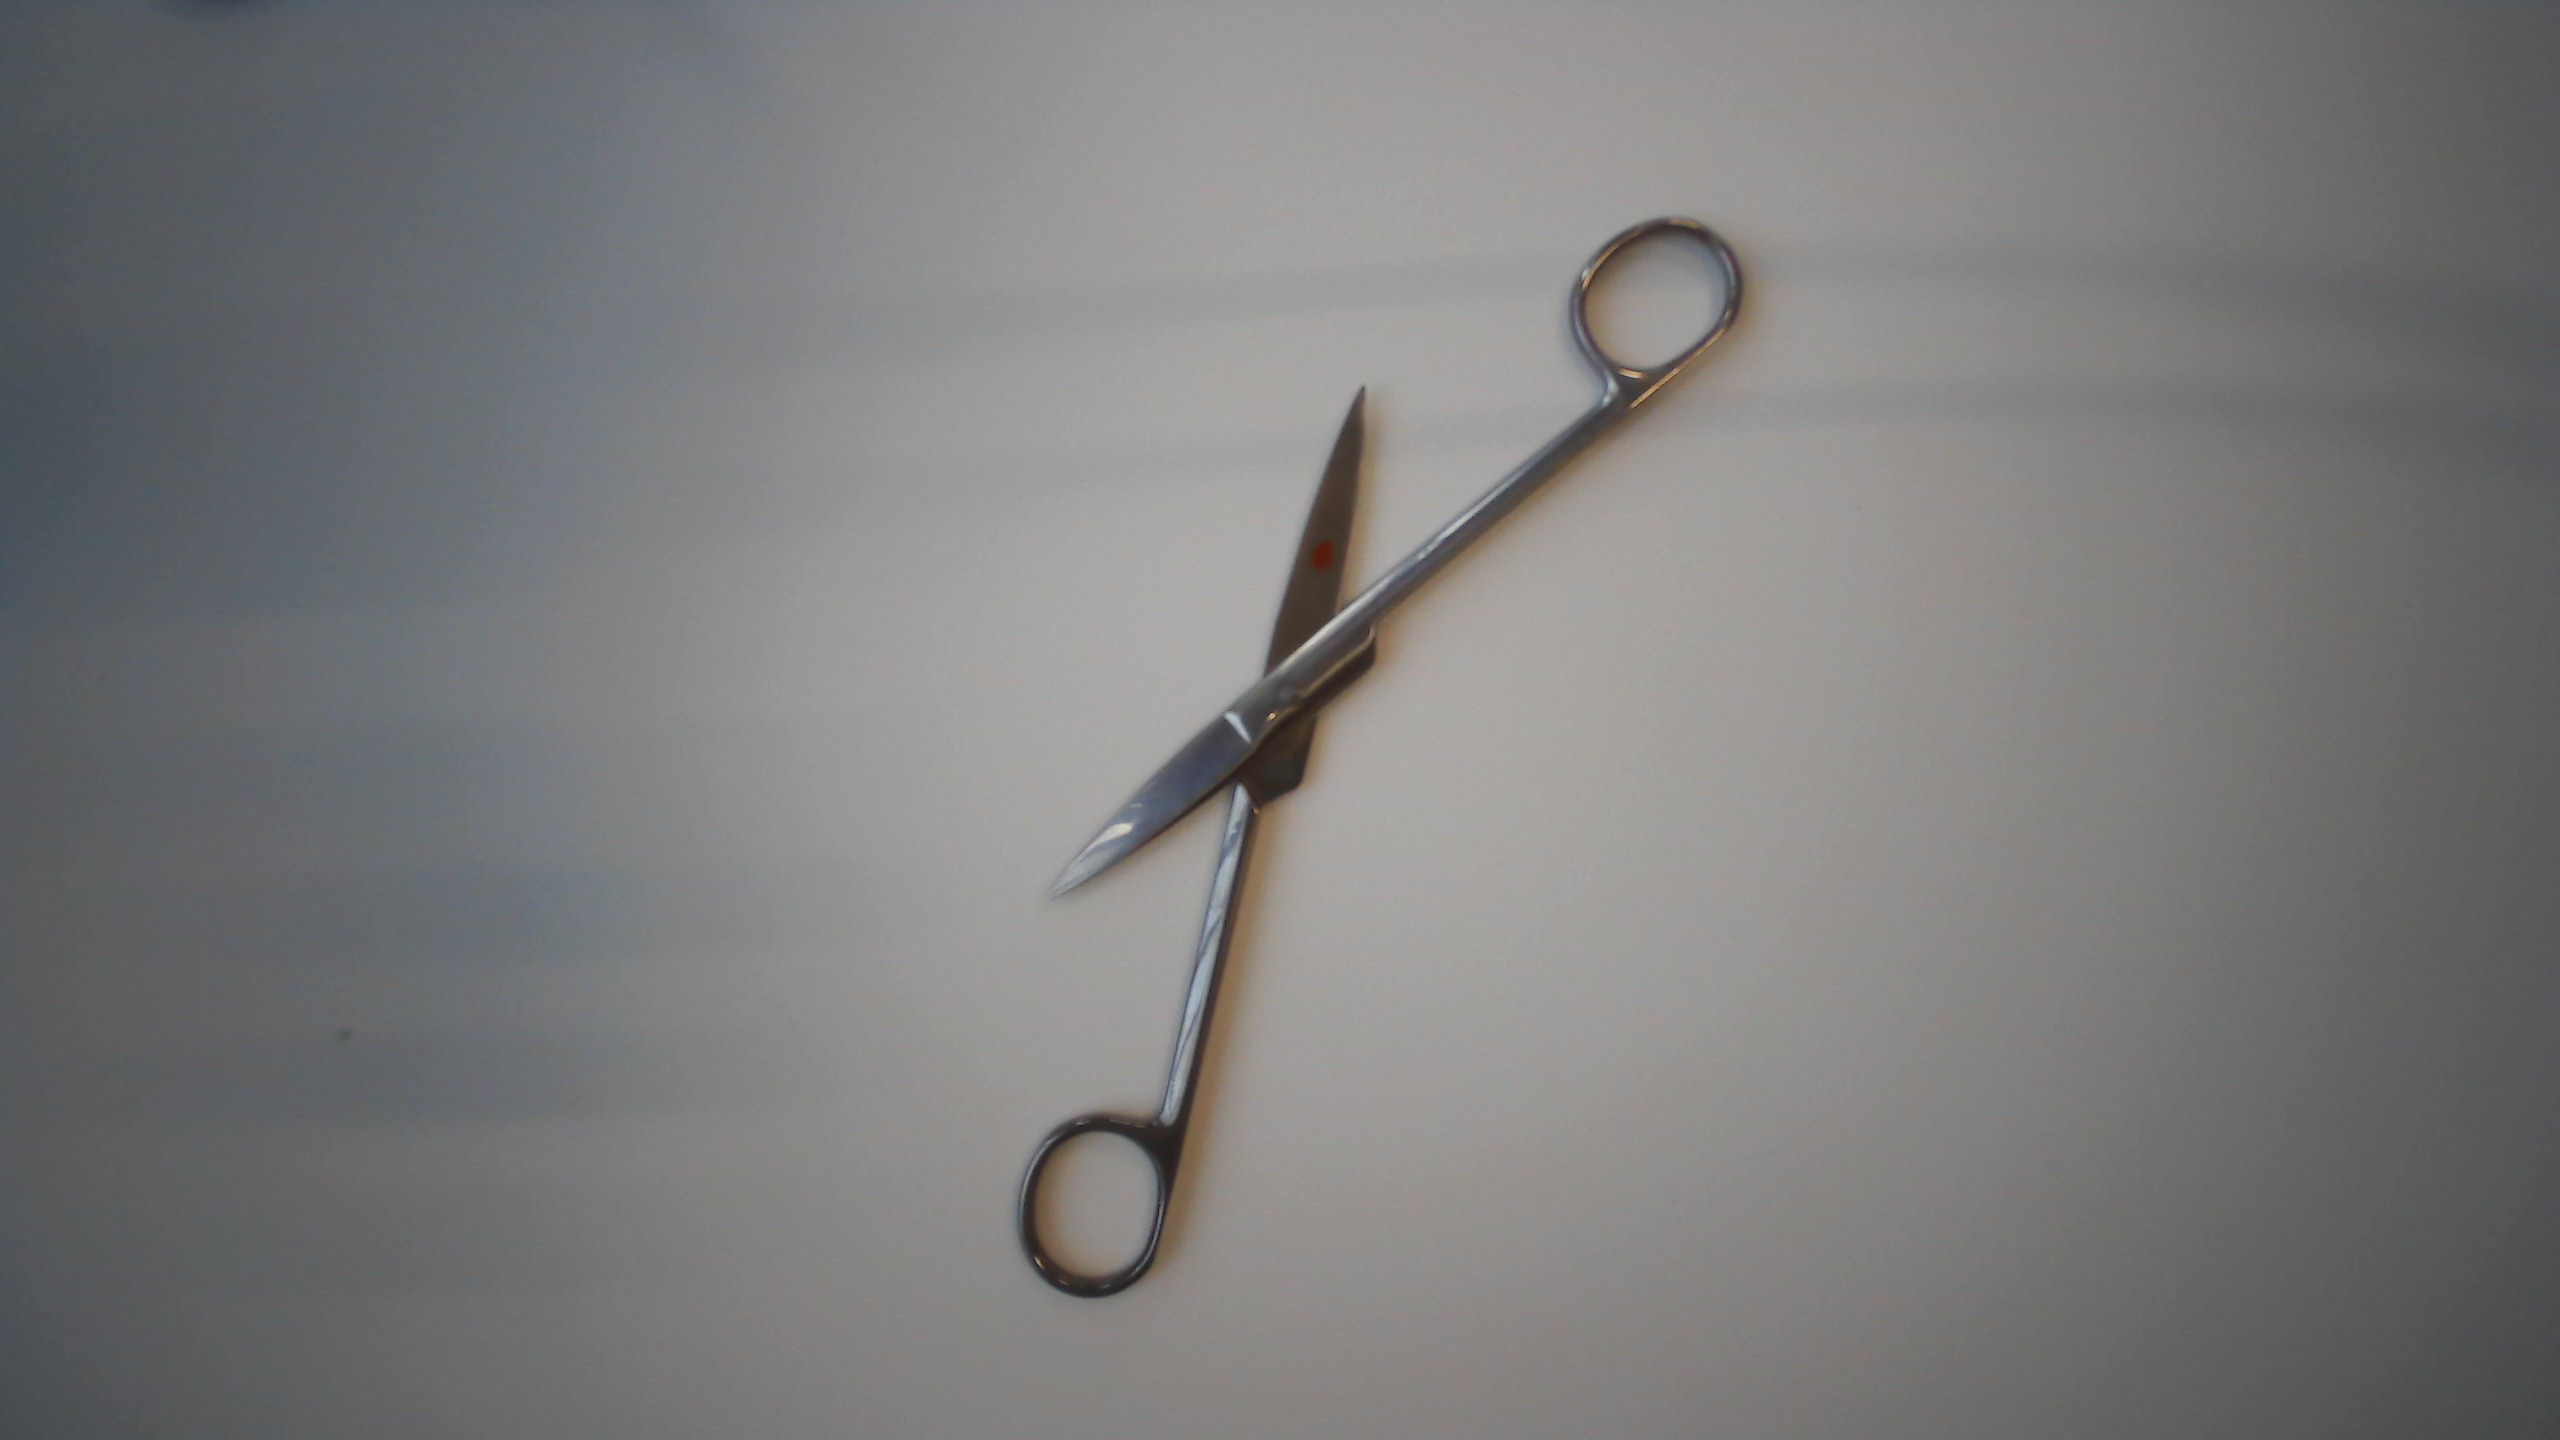Stain: (1299, 526, 1350, 580)
